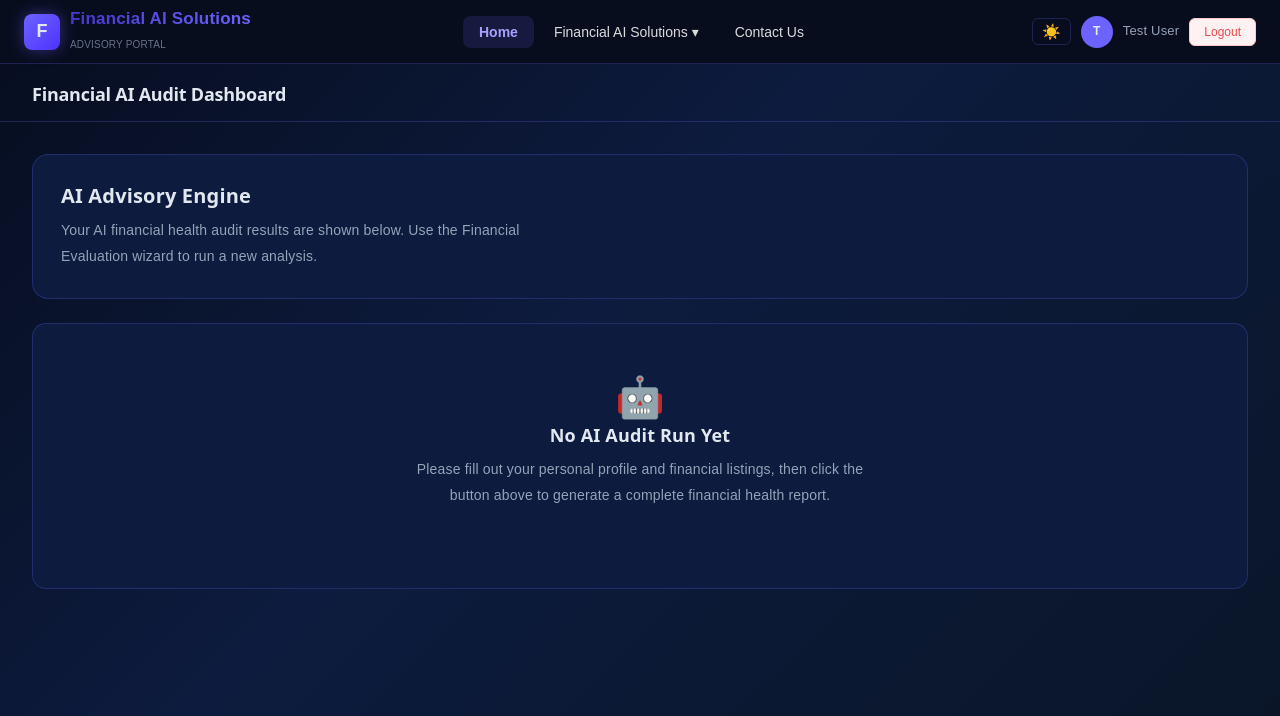
Scenario: Home – Evaluate Financials wizard › Back button at step 2 returns to step 1
Hover over the element "Financial AI Solutions ▾" at (626, 32), box [538,16,715,48]
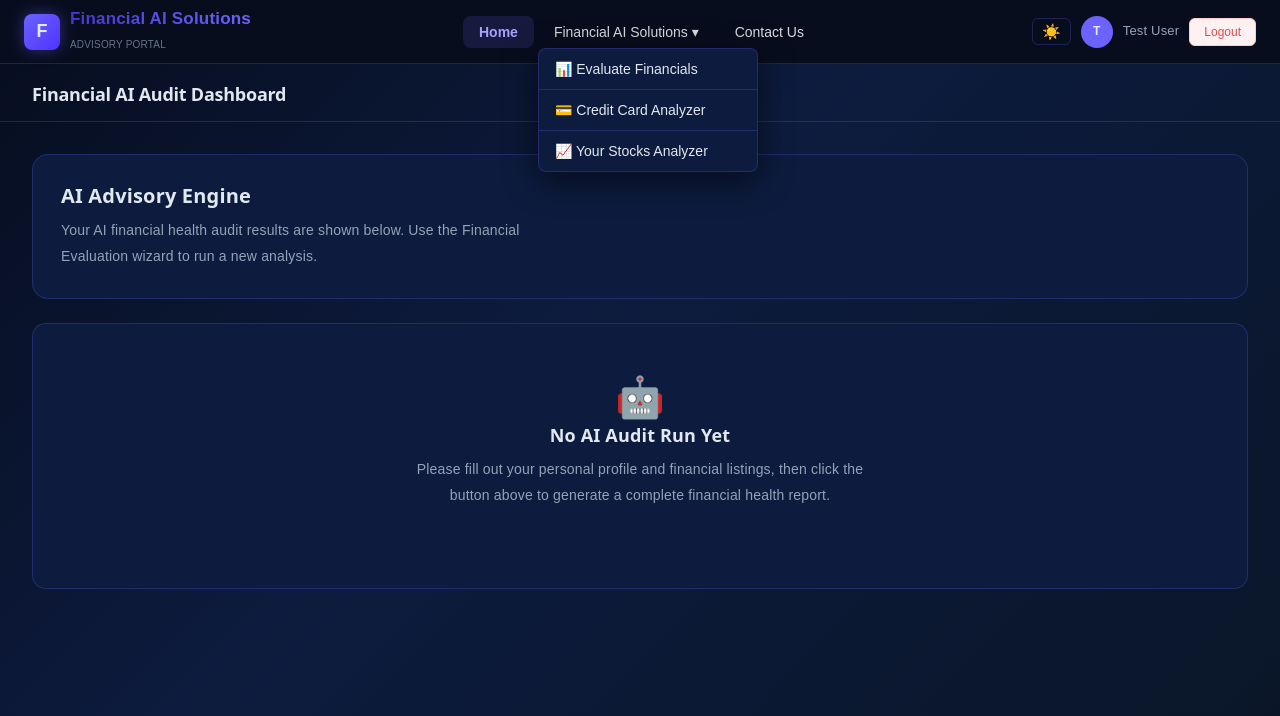
Click the button "📊 Evaluate Financials". click: (648, 69)
box: [539,48,757,90]
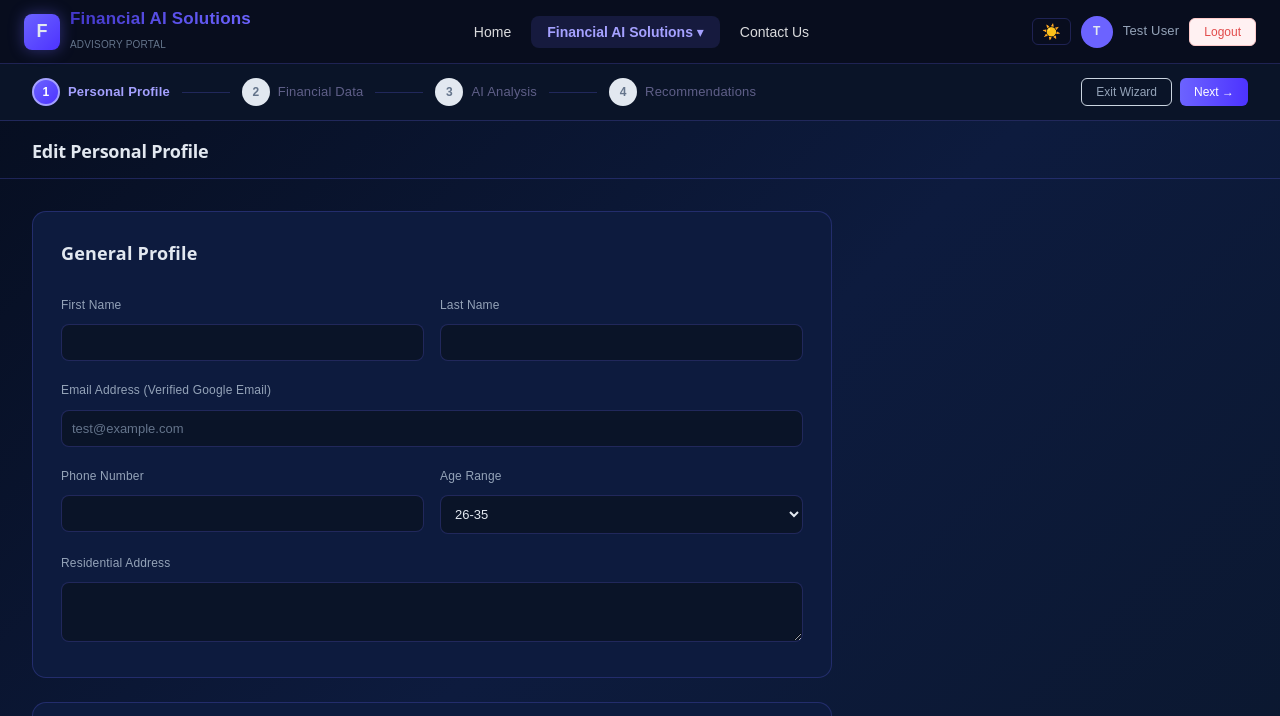
Click the button "Next →". click: (1214, 92)
box: [1180,78,1248,106]
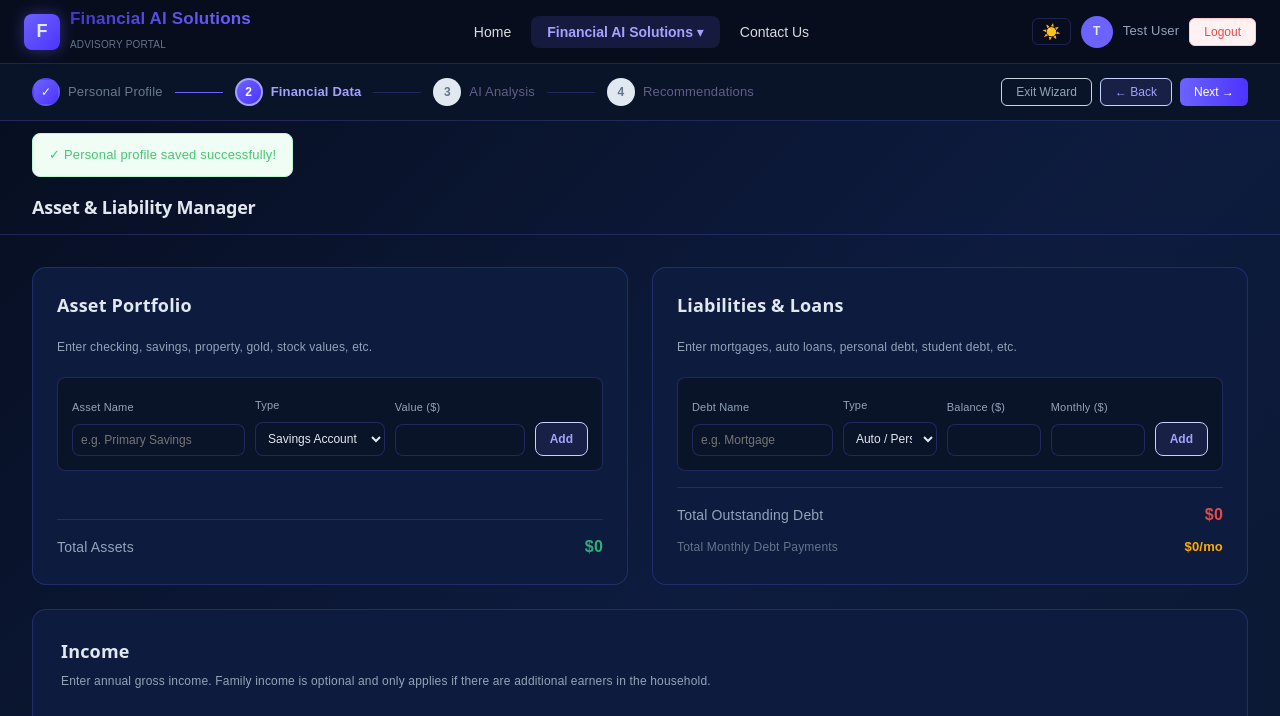
Expected: the heading "Asset & Liability Manager" is shown, [32,195,256,219]
Click the button "← Back". click: (1136, 92)
box: [1100,78,1172,106]
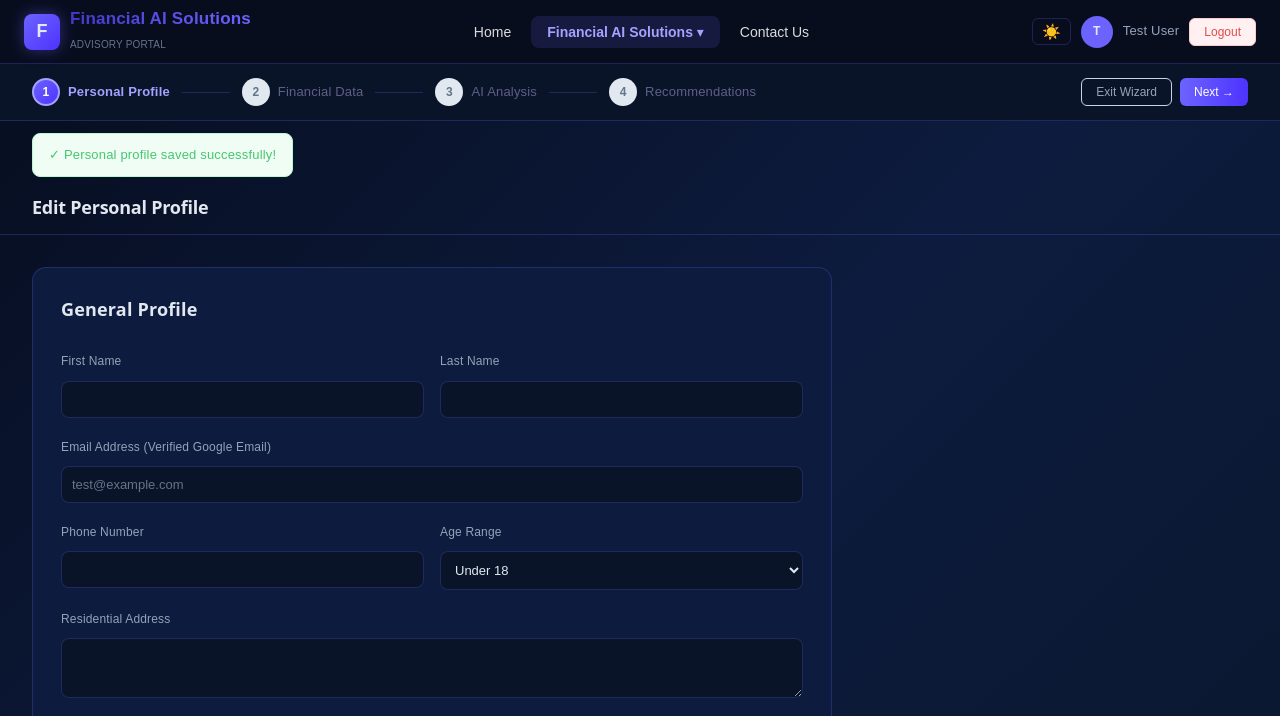
Expected: the heading "Edit Personal Profile" is shown, [32,195,208,219]
